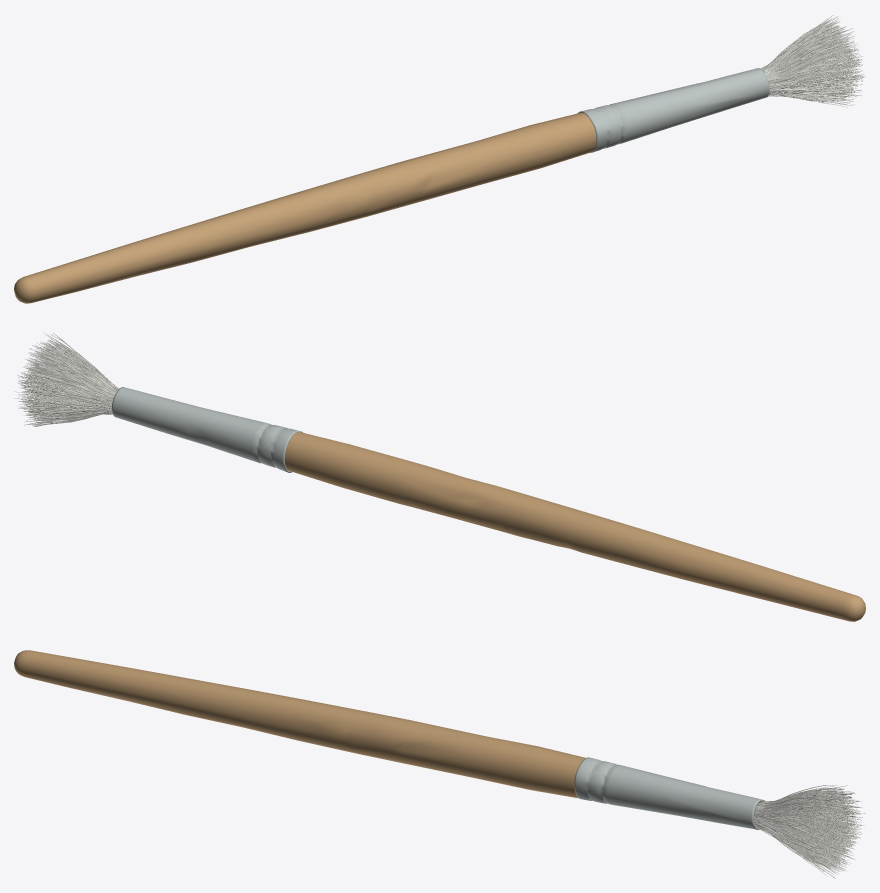
Rendered from paint_supplies_brush_a08.glb.
The picture shows the model from 3 angles, top to bottom: view 1: azimuth 30°, elevation 25°; view 2: azimuth 150°, elevation 25°; view 3: azimuth 330°, elevation 25°; orthographic projection.
Size of the model in its own units: 0.2047 by 0.0213 by 0.0179.
